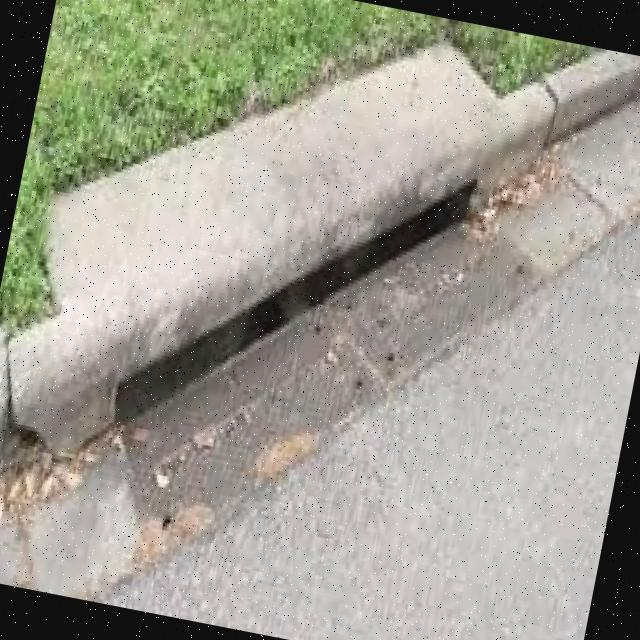curb: (1, 93, 390, 525), (332, 25, 547, 299), (480, 29, 640, 157)
